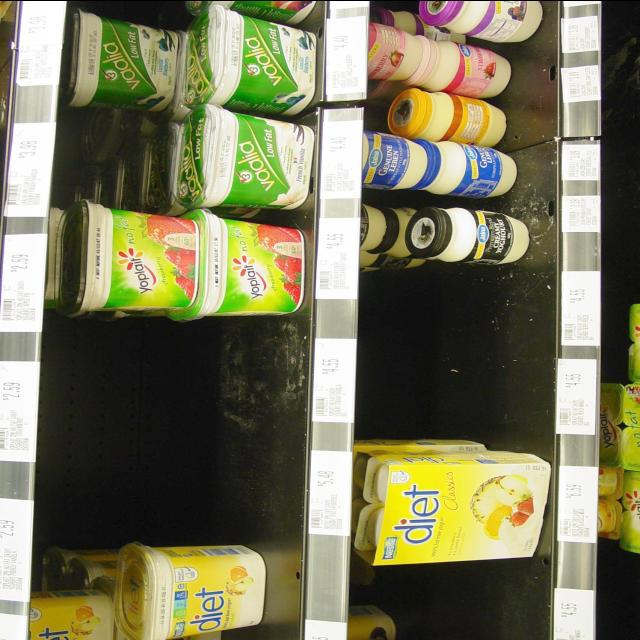empty_space: (62, 335, 286, 533), (383, 278, 541, 424), (373, 568, 539, 637)
